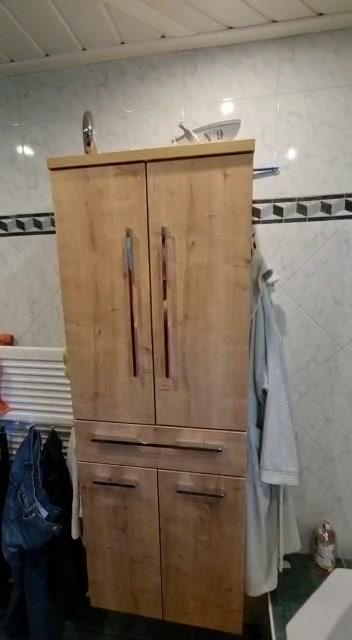cabinet_door: (157, 172, 254, 427), (52, 173, 145, 428), (162, 472, 241, 626), (83, 469, 159, 611), (74, 429, 249, 474)
handle: (86, 431, 232, 460), (156, 217, 178, 389), (123, 215, 142, 391), (89, 470, 145, 494), (176, 478, 226, 504)
